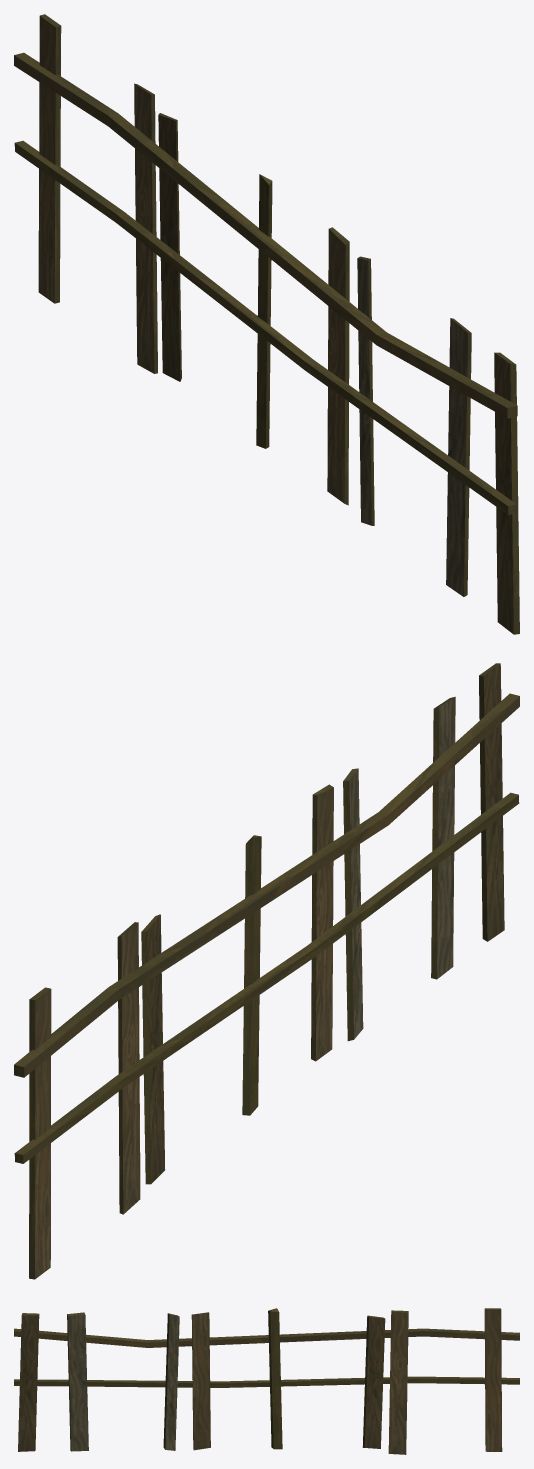
File: Fence01.fbx
3 views of the same model, one above another, from view 1: azimuth 30°, elevation 25°; view 2: azimuth 150°, elevation 25°; view 3: azimuth 270°, elevation 25° (orthographic). The views are drawn at different scales.
Parts seen in each view (by area): view 1: Fence01; view 2: Fence01; view 3: Fence01.
Boxes of the visible parts, box(x1,y1,x2,y2) form: Fence01: box(14, 14, 519, 634); Fence01: box(14, 663, 519, 1279); Fence01: box(14, 1308, 519, 1454).
Bounding box in the file's own units: 0.0709 × 1.12 × 3.55.
1 material, 1 textured.
